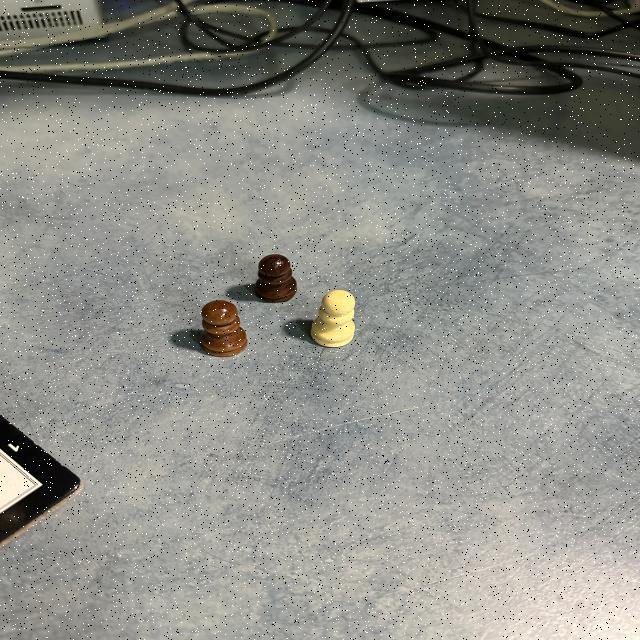Black-Pawn: (199, 300, 249, 358), (255, 254, 299, 304)
White-Pawn: (310, 289, 357, 349)
